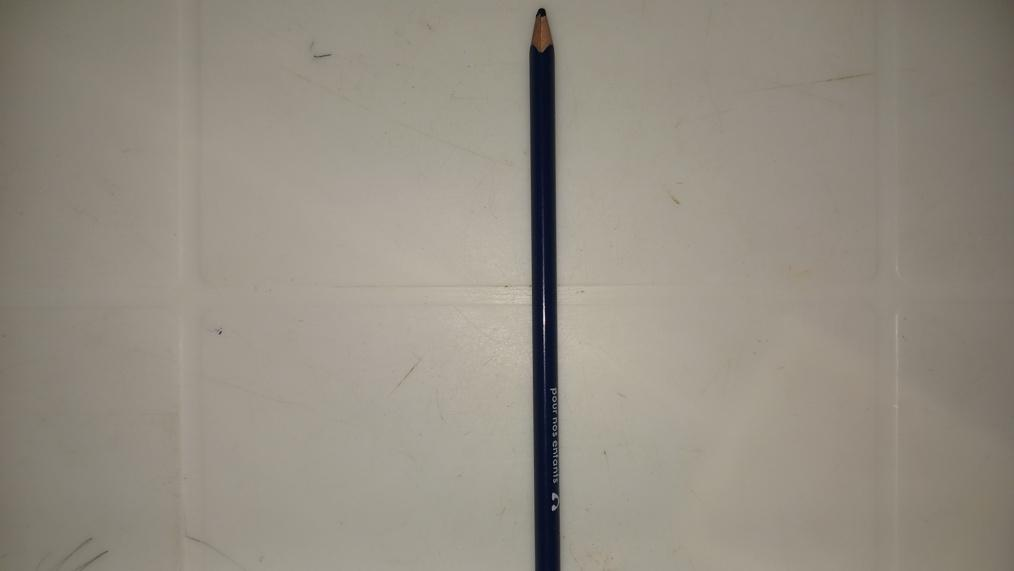Pencil: (531, 6, 557, 571)
